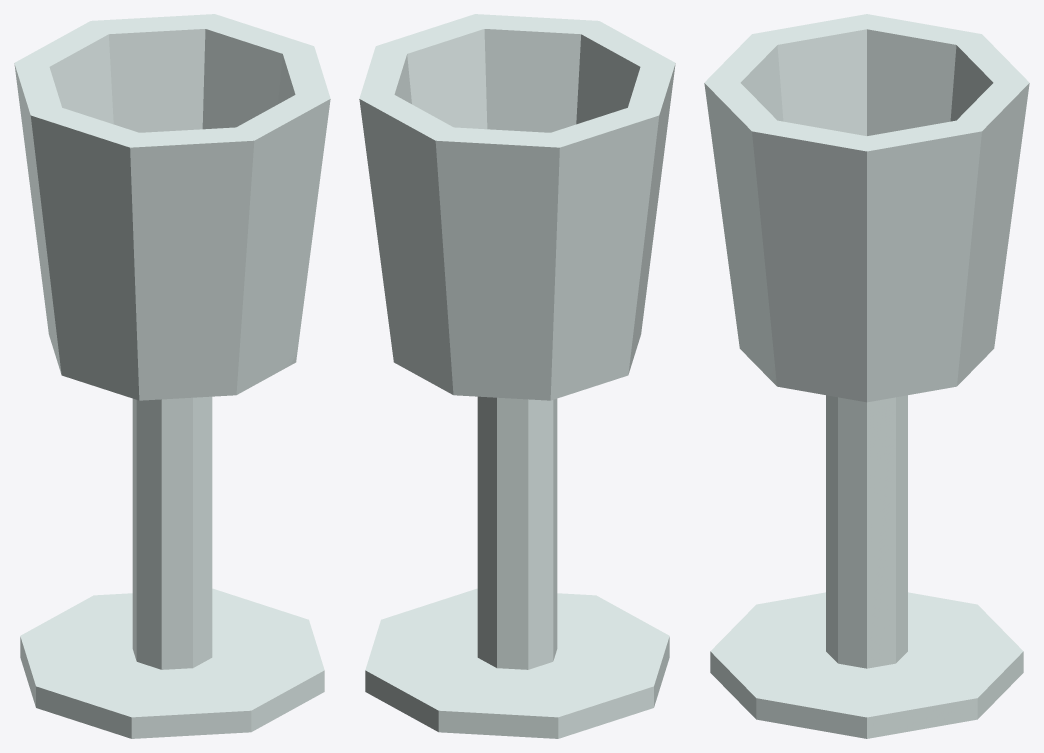
The model's file is wine glass COMPLETE.fbx.
3 views of the same model, side by side, from view 1: azimuth 30°, elevation 25°; view 2: azimuth 150°, elevation 25°; view 3: azimuth 270°, elevation 25° (orthographic).
Parts seen in each view (by area): view 1: pCylinder1; view 2: pCylinder1; view 3: pCylinder1.
Boxes of the visible parts, x1,y1,x2,y2 form: pCylinder1: (14,14,330,738); pCylinder1: (359,14,675,738); pCylinder1: (704,14,1029,738).
Size of the model in its own units: 1.06 by 2.12 by 1.06.
